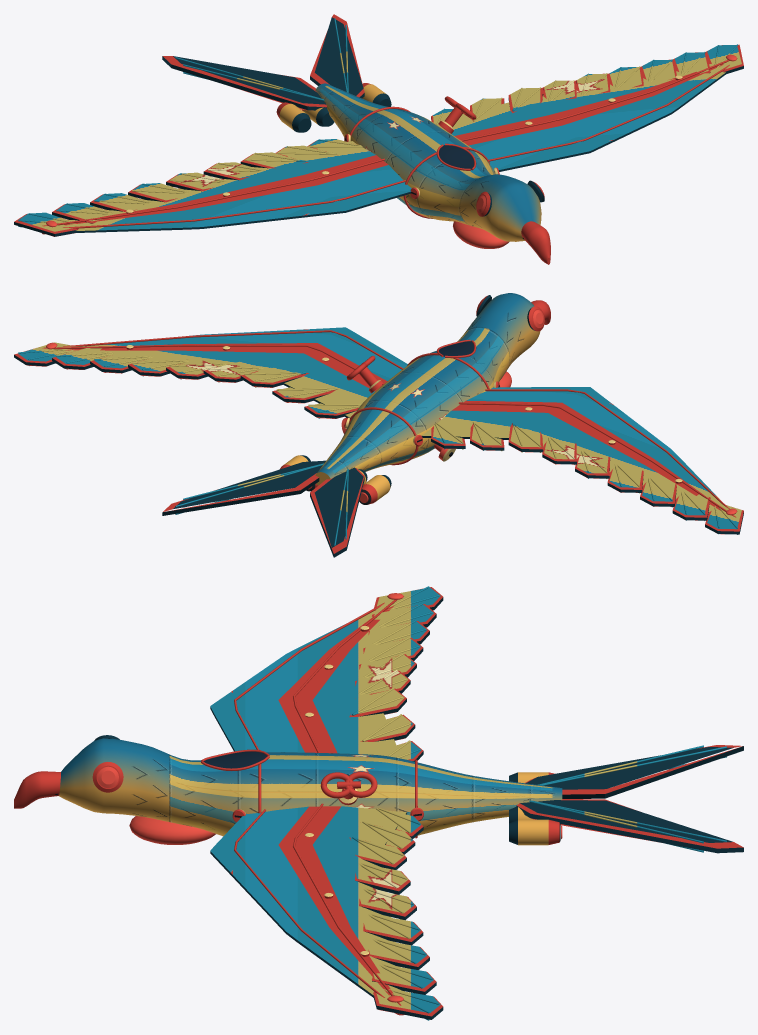
3 views of the same model, one above another, from view 1: azimuth 30°, elevation 25°; view 2: azimuth 150°, elevation 25°; view 3: azimuth 270°, elevation 25° (orthographic). The views are drawn at different scales.
Parts seen in each view (by area): view 1: frigatebird_hull; view 2: frigatebird_hull; view 3: frigatebird_hull.
Boxes of the visible parts, x1=… form: frigatebird_hull: x1=14, y1=14, x2=743, y2=264; frigatebird_hull: x1=14, y1=293, x2=743, y2=557; frigatebird_hull: x1=14, y1=586, x2=743, y2=1020.
Bounding box in the file's own units: 88 × 9.47 × 63.18.
Materials: 1 (1 with a texture image).
